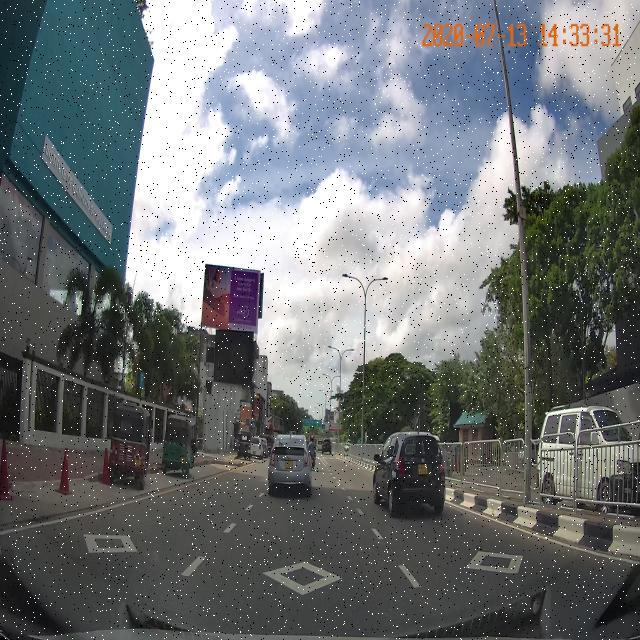diamond: (157, 543, 444, 613)
